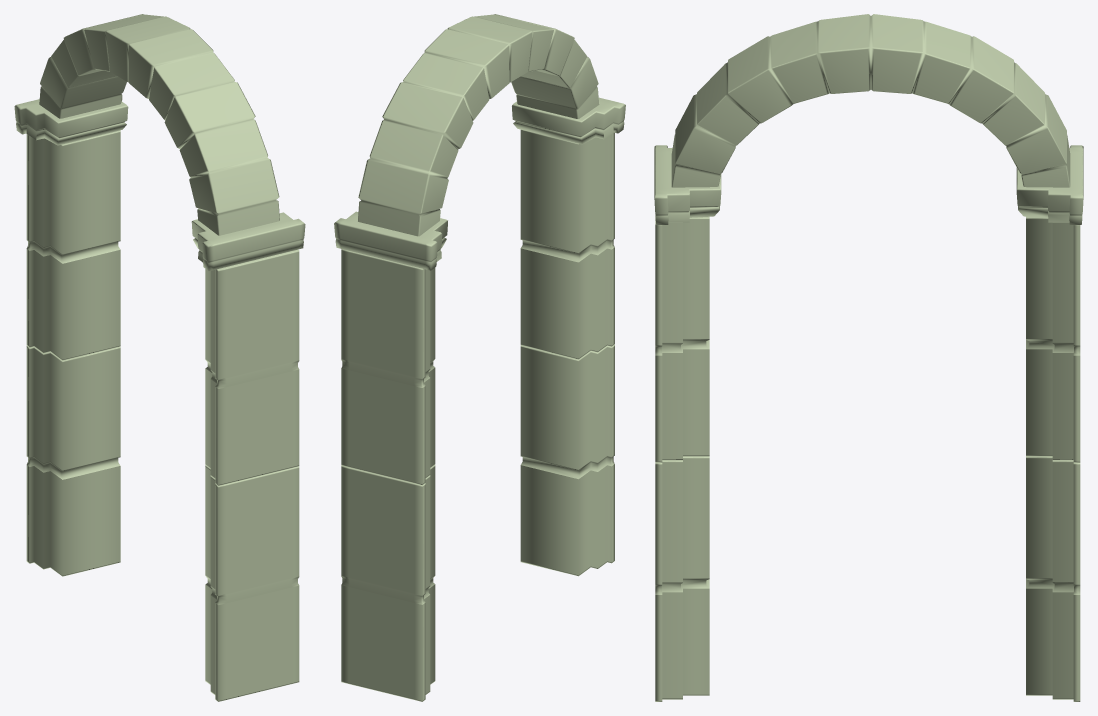
Rendered from Door_Gate_01_Lod0.fbx.
3 views of the same model, side by side, from view 1: azimuth 30°, elevation 25°; view 2: azimuth 150°, elevation 25°; view 3: azimuth 270°, elevation 25° (orthographic). The views are drawn at different scales.
Visible parts, largest first — view 1: Door_Gate_01_Lod0; view 2: Door_Gate_01_Lod0; view 3: Door_Gate_01_Lod0.
Part boxes in pixels (<box>): Door_Gate_01_Lod0: <box>14,14,305,701</box>; Door_Gate_01_Lod0: <box>334,14,625,701</box>; Door_Gate_01_Lod0: <box>654,14,1083,701</box>.
Bounding box in the file's own units: 70.69 × 407 × 244.
